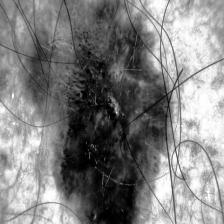Benign Marking or Mole: (46, 19, 186, 224)
